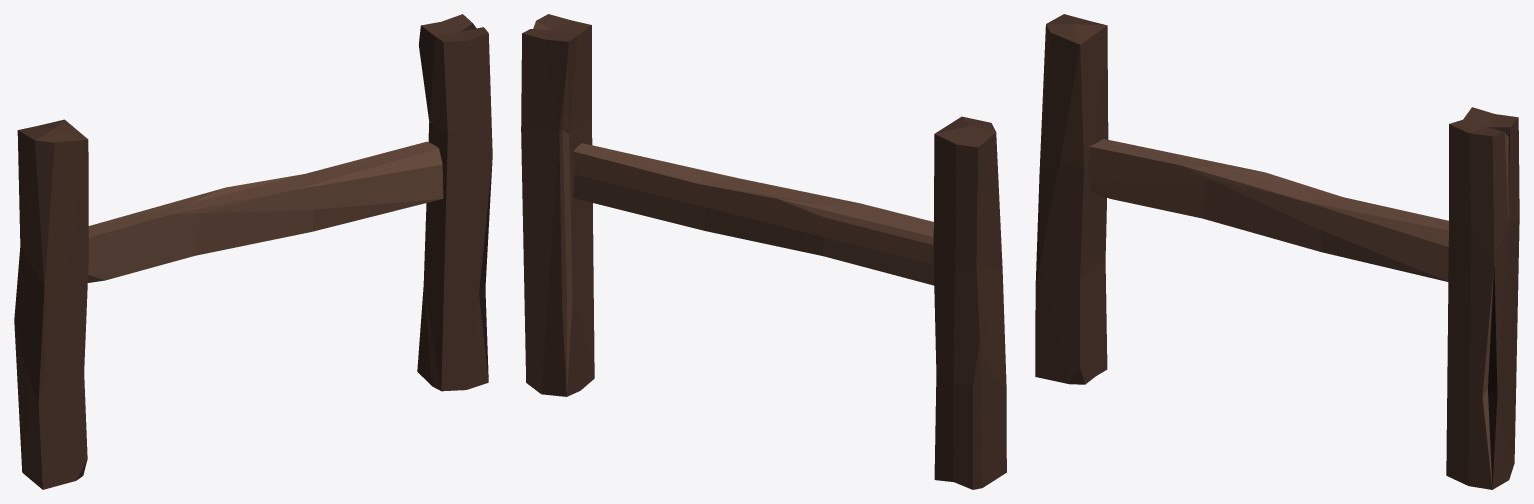
Rendered from DocksPillar_01.glb.
3 views of the same model, side by side, from view 1: azimuth 30°, elevation 25°; view 2: azimuth 150°, elevation 25°; view 3: azimuth 330°, elevation 25° (orthographic).
Visible parts, largest first — view 1: DocksPillar_01; view 2: DocksPillar_01; view 3: DocksPillar_01.
Boxes of the visible parts, x1=… form: DocksPillar_01: x1=14, y1=14, x2=492, y2=489; DocksPillar_01: x1=521, y1=14, x2=1006, y2=489; DocksPillar_01: x1=1035, y1=14, x2=1519, y2=489.
Size of what is drawn, in the model's own units: 1.84 by 1.36 by 0.2153.
1 material, 1 textured.
